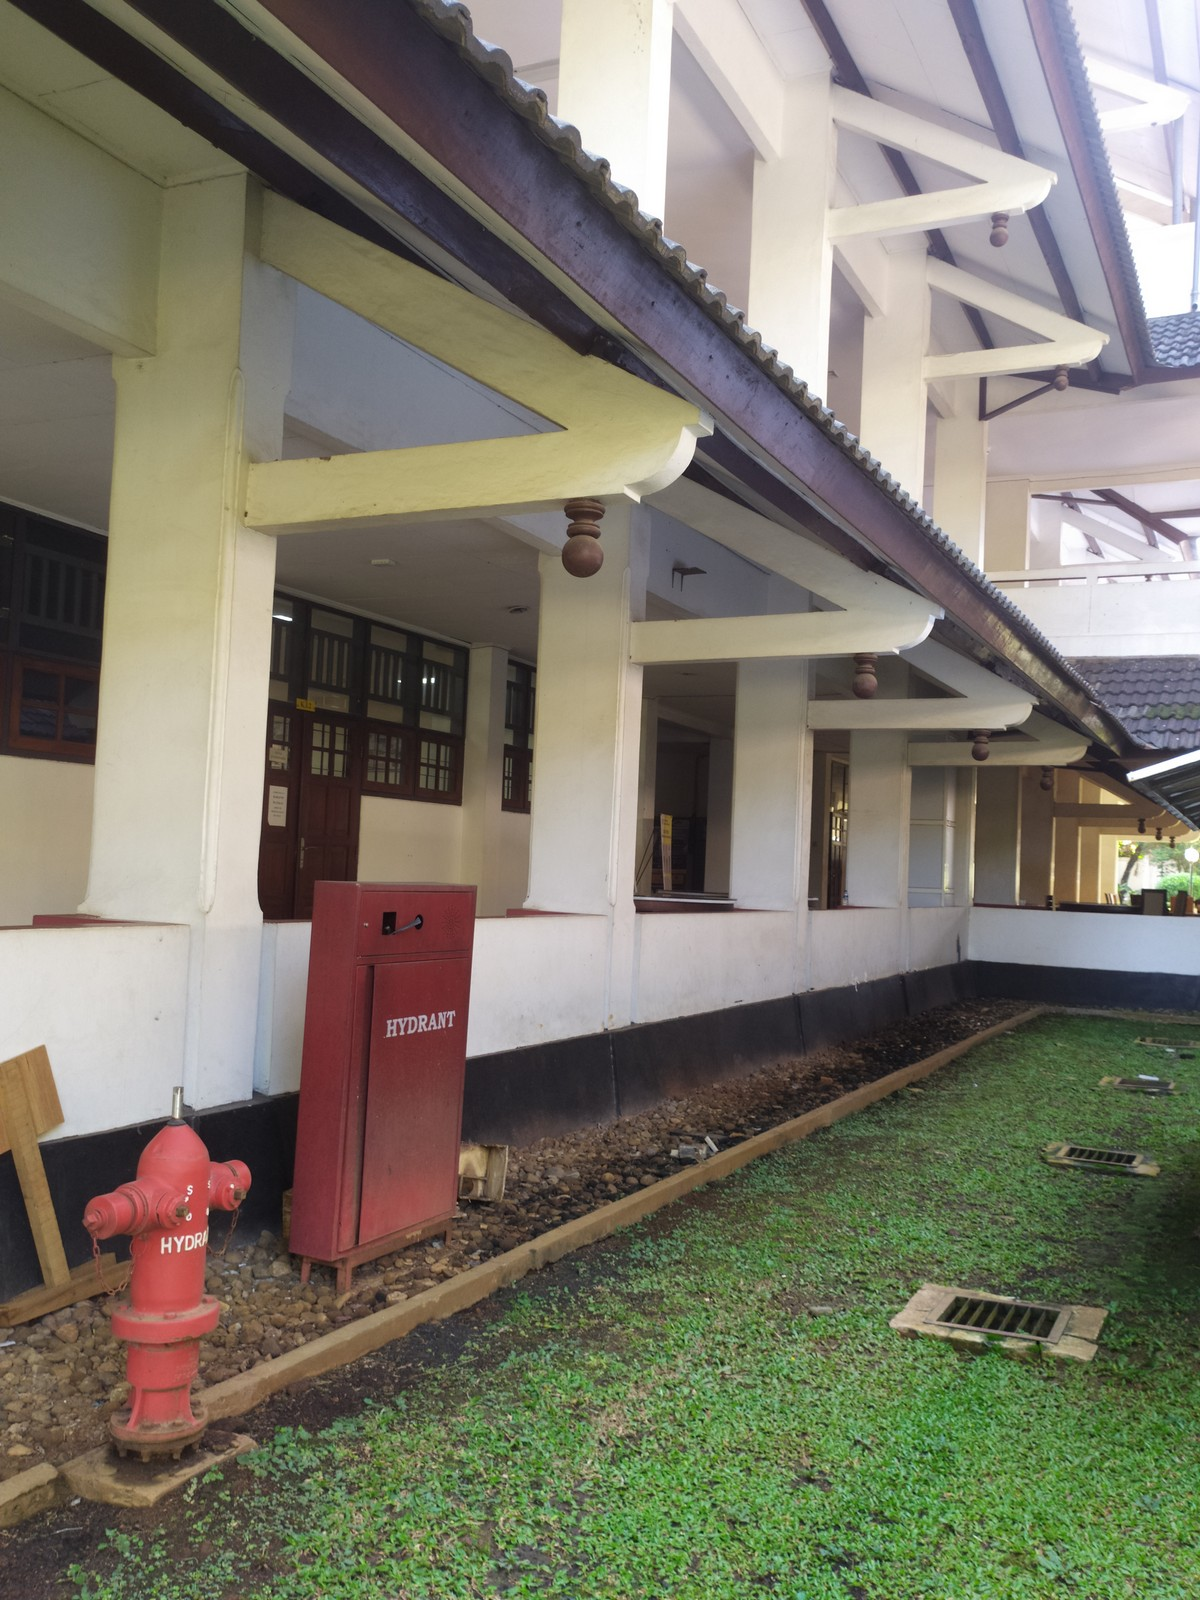concrete beam: (229, 433, 613, 551), (616, 610, 867, 674), (789, 690, 979, 745)
concrete column: (92, 170, 289, 993), (516, 529, 655, 1012), (724, 655, 818, 975), (548, 5, 687, 222), (737, 139, 841, 396), (837, 736, 918, 991), (851, 282, 937, 506)
